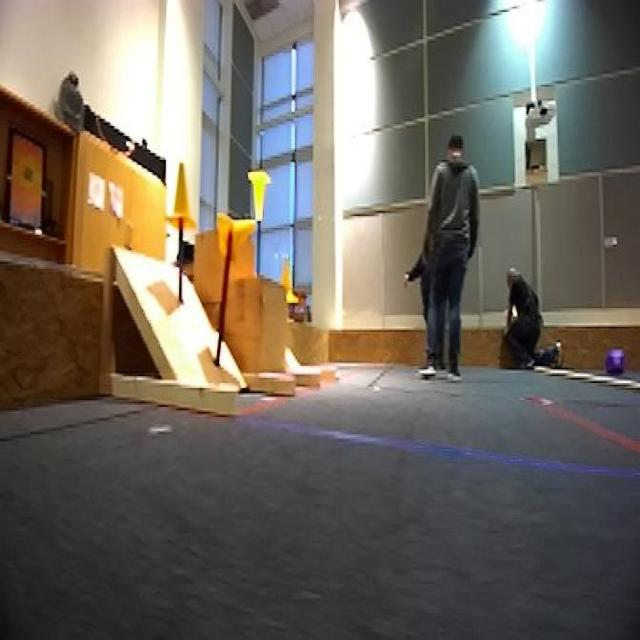frc_cone: (169, 158, 199, 232), (215, 208, 255, 257), (248, 168, 272, 222), (277, 252, 298, 308)
frc_cube: (608, 351, 626, 381)
